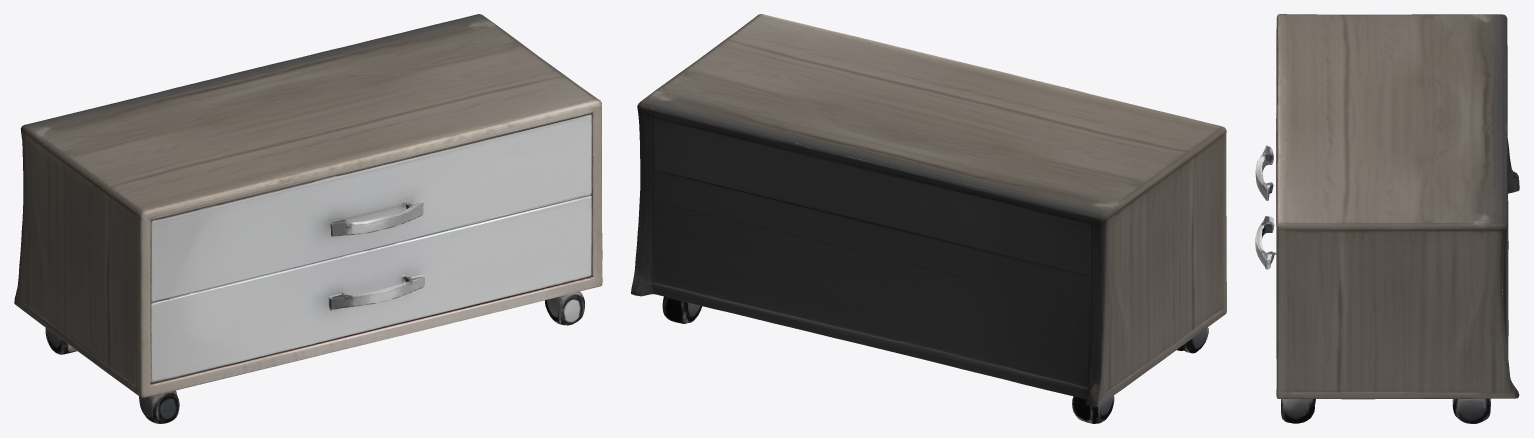
Rendered from trellis_generated_522eeb39.glb.
3 views of the same model, side by side, from view 1: azimuth 30°, elevation 25°; view 2: azimuth 150°, elevation 25°; view 3: azimuth 270°, elevation 25° (orthographic). The views are drawn at different scales.
Parts seen in each view (by area): view 1: world; view 2: world; view 3: world.
Boxes of the visible parts, <box> form: world: <box>14,14,602,423</box>; world: <box>631,14,1226,423</box>; world: <box>1255,14,1519,423</box>.
Bounding box in the file's own units: 1 × 0.4589 × 0.5251.
1 material, 1 textured.
